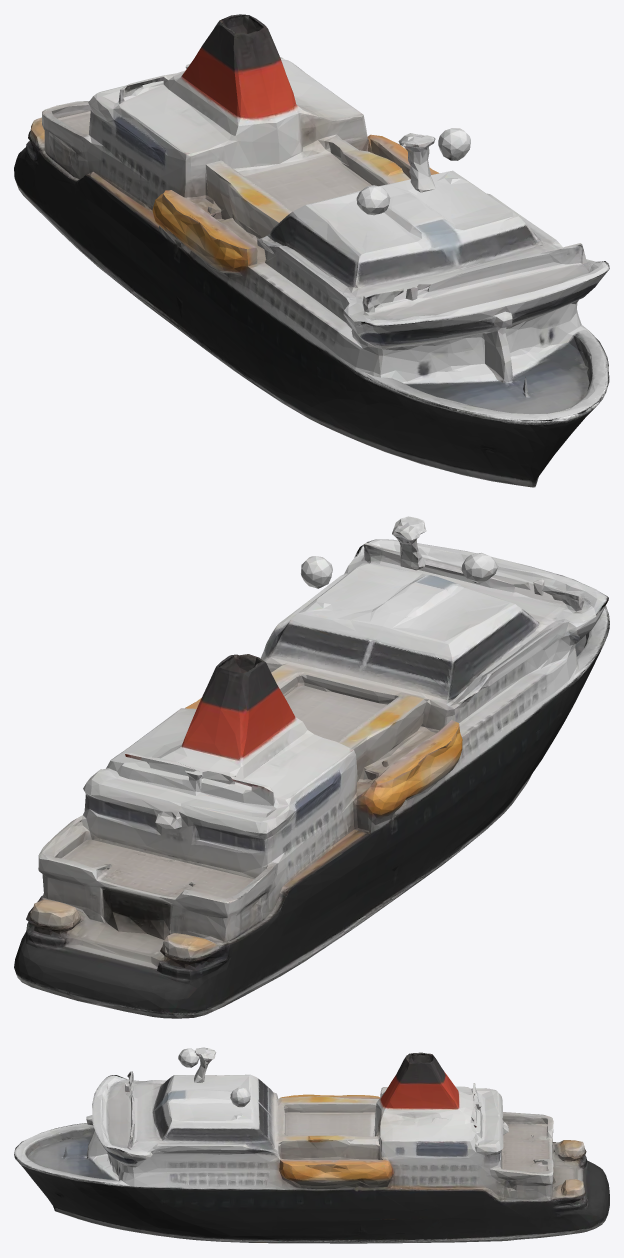
Rendered from ship.glb.
3 renders of one model, top to bottom at view 1: azimuth 30°, elevation 25°; view 2: azimuth 150°, elevation 25°; view 3: azimuth 270°, elevation 25°, orthographic. The views are drawn at different scales.
Visible parts, largest first — view 1: geometry_0; view 2: geometry_0; view 3: geometry_0.
Boxes of the visible parts, x1=… form: geometry_0: x1=14, y1=14, x2=609, y2=487; geometry_0: x1=14, y1=516, x2=609, y2=1018; geometry_0: x1=14, y1=1047, x2=609, y2=1243.
Bounding box in the file's own units: 0.2962 × 0.3039 × 1.
1 material, 1 textured.
